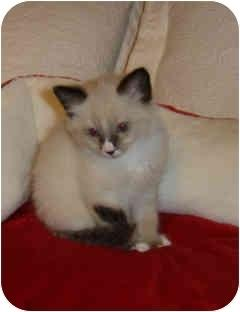siamese: (49, 58, 164, 166)
